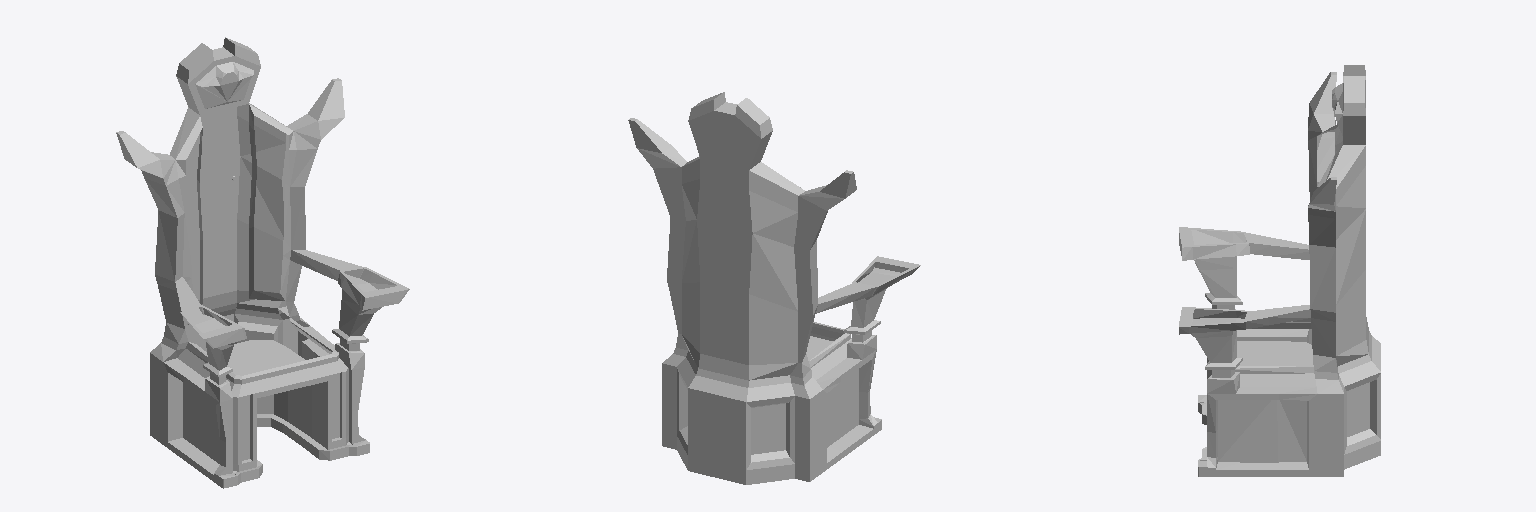
File: Throne_Base.obj
The picture shows the model from 3 angles: view 1: azimuth 30°, elevation 25°; view 2: azimuth 150°, elevation 25°; view 3: azimuth 270°, elevation 25°; orthographic projection.
Parts seen in each view (by area): view 1: default; view 2: default; view 3: default.
Boxes of the visible parts, x1=… form: default: x1=116, y1=37, x2=409, y2=488; default: x1=628, y1=92, x2=920, y2=484; default: x1=1179, y1=65, x2=1380, y2=476.
Size of the model in its own units: 4.71 by 7.47 by 3.71.